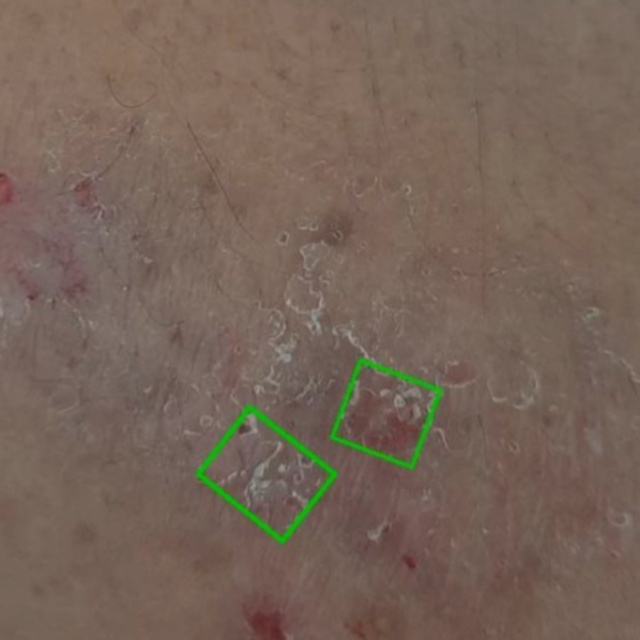Tinea Corporis: (197, 408, 334, 541), (331, 360, 439, 467)
